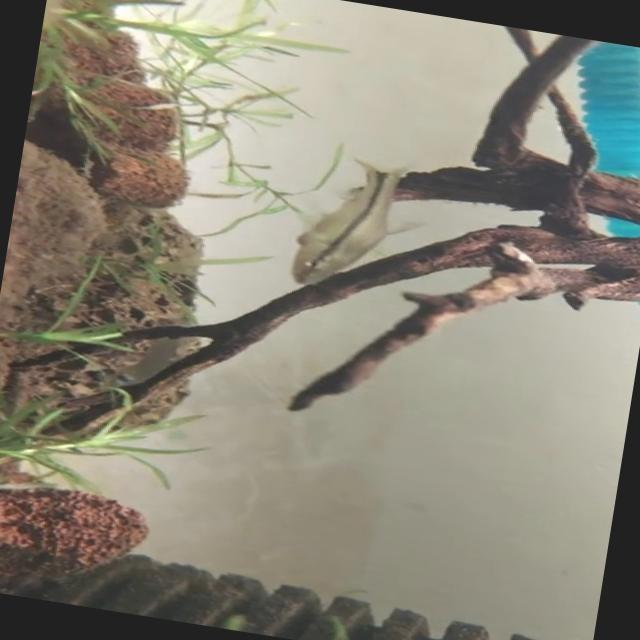Cakil Baligi: (286, 149, 430, 303)
